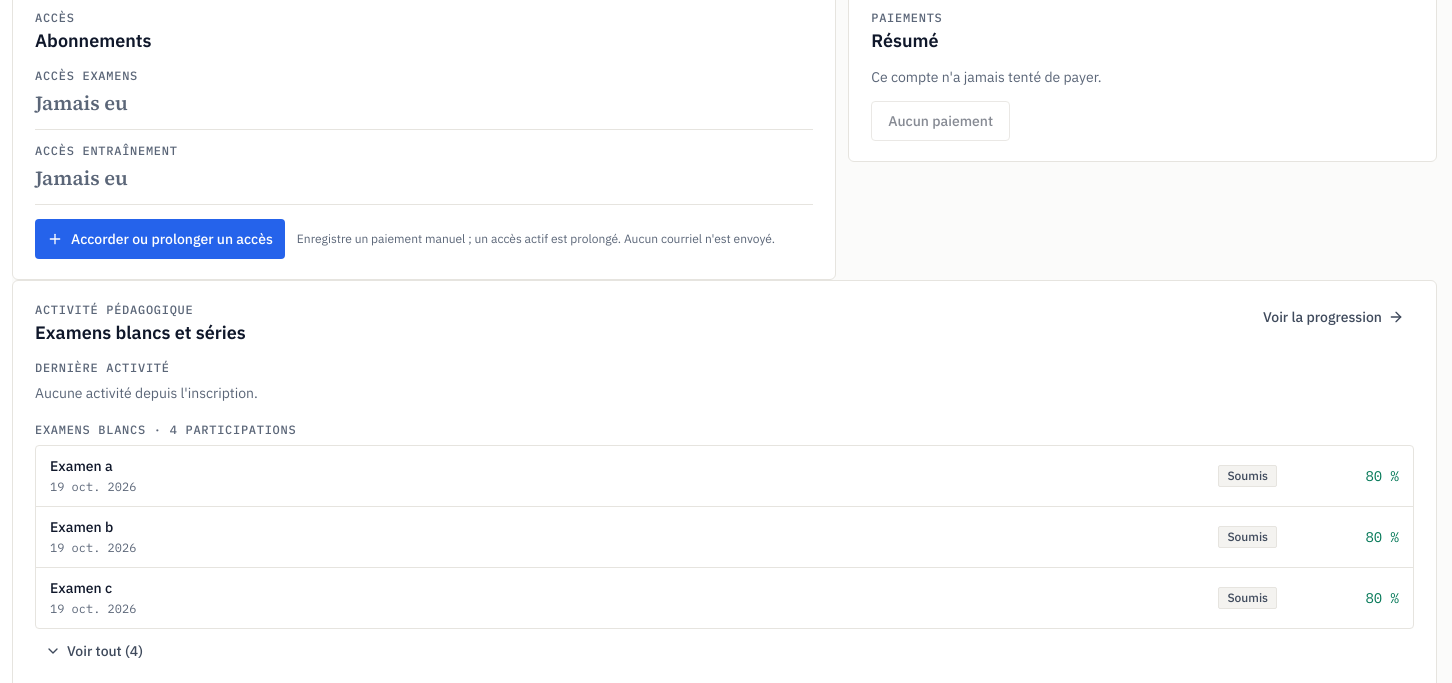
Test case: UserFileClient — activité pédagogique › plus de trois participations : « Voir tout » déplie, « Réduire » replie
Step 1. Click the button "Voir tout (4)" → click(94, 651), box top-left (35, 635), bottom-right (153, 667)
(page scrolled)
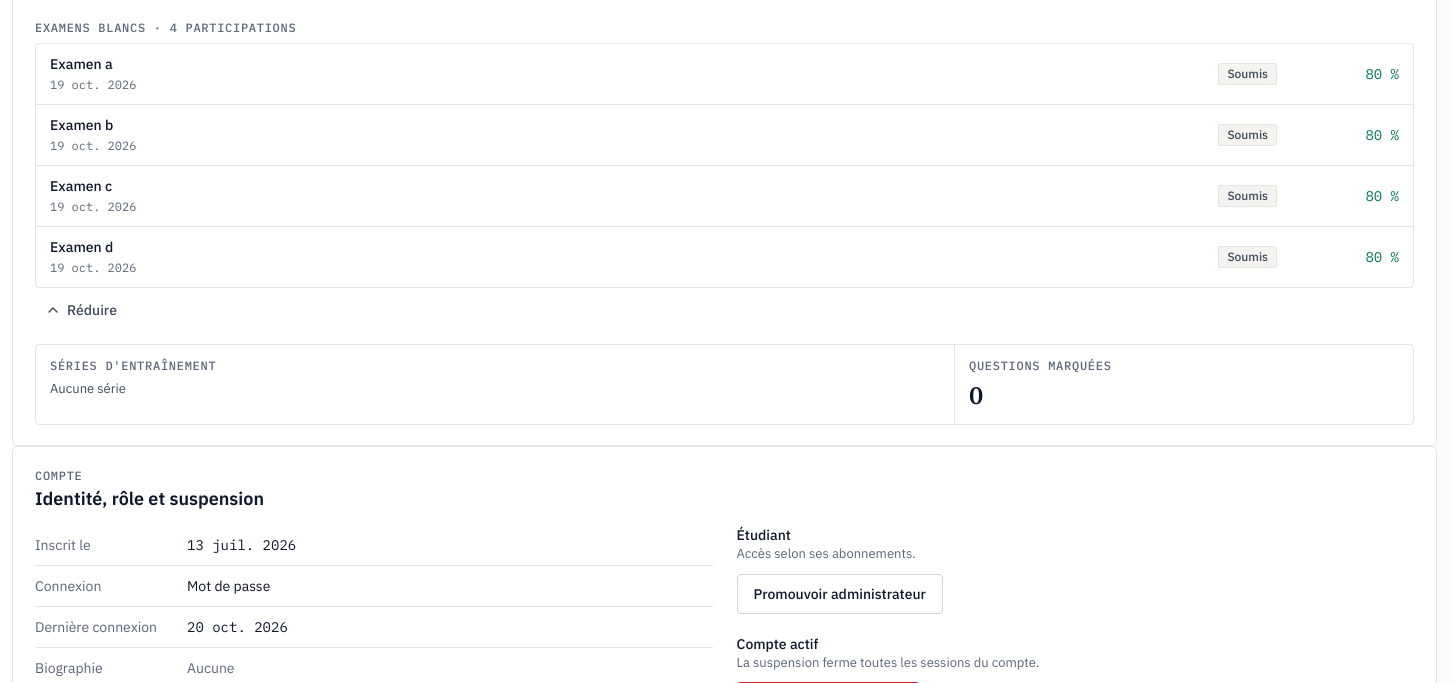
Now the element with test id "participation-d" is shown, box top-left (36, 226), bottom-right (1413, 287)
Step 2. Click the button "Réduire" → click(81, 310), box top-left (35, 294), bottom-right (127, 326)
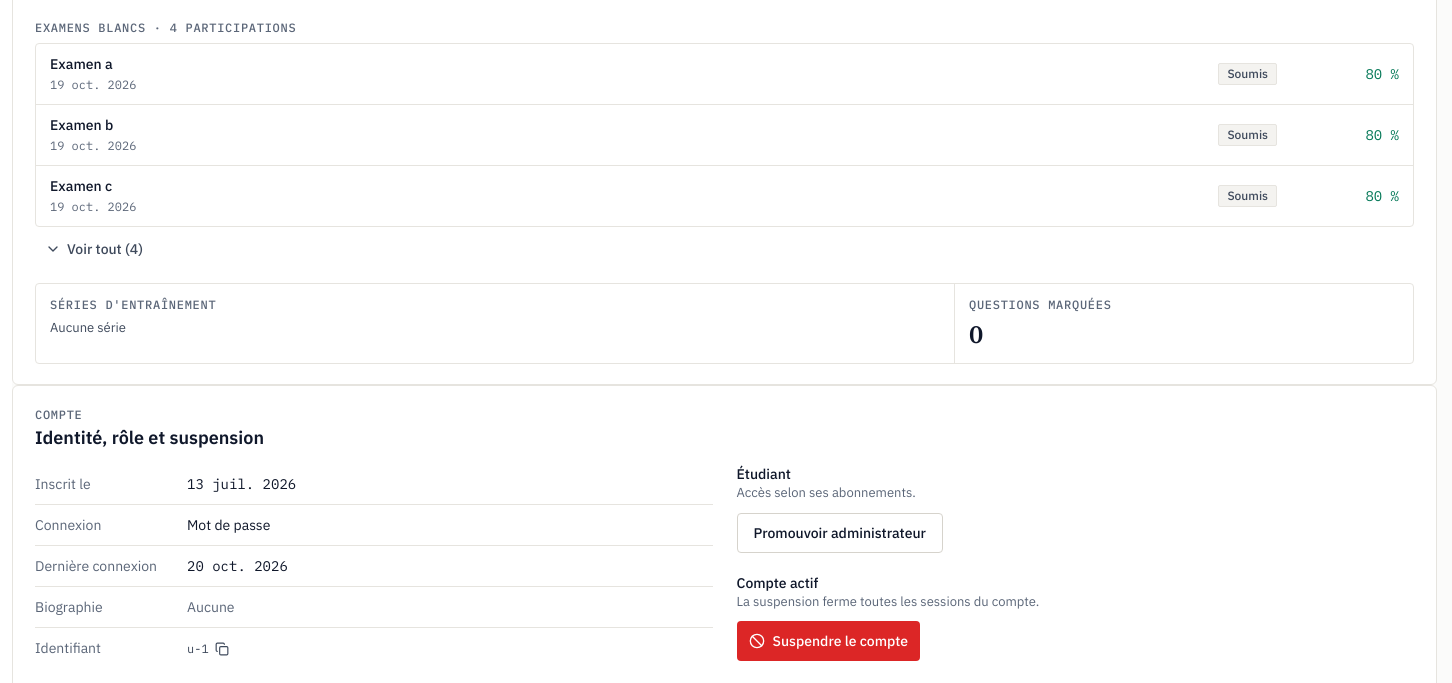
Now the element with test id "participation-d" is gone
